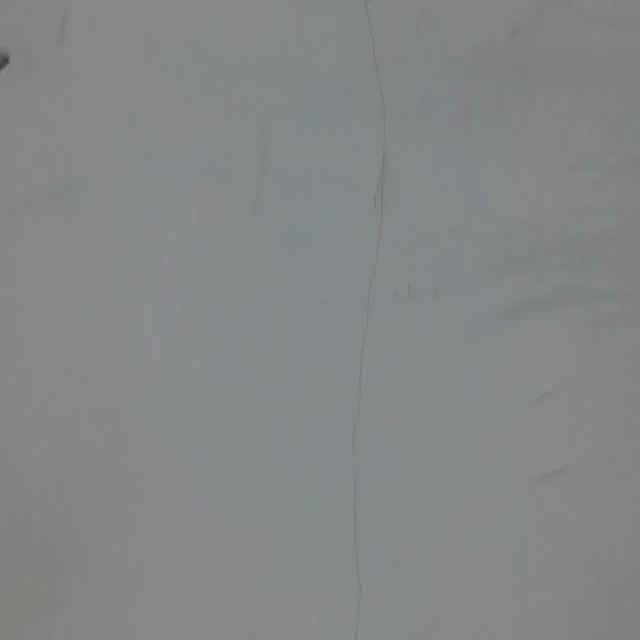Crack: (261, 0, 471, 640)
